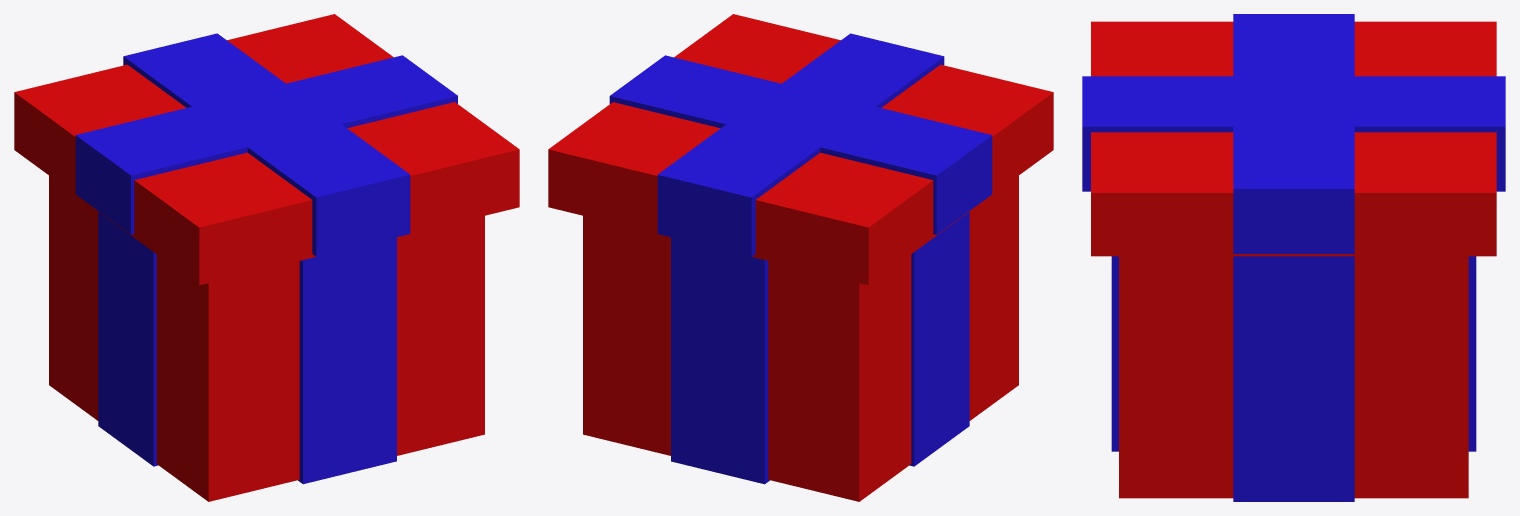
Rendered from Cube Giftbox 1.fbx.
The picture shows the model from 3 angles, left to right: view 1: azimuth 30°, elevation 25°; view 2: azimuth 150°, elevation 25°; view 3: azimuth 270°, elevation 25°; orthographic projection. The views are drawn at different scales.
Visible parts, largest first — view 1: Box, Ribbon; view 2: Box, Ribbon; view 3: Box, Ribbon.
Boxes of the visible parts, x1,y1,x2,y2 form: Box: (14, 14, 519, 501); Ribbon: (75, 33, 457, 484); Box: (548, 14, 1053, 501); Ribbon: (609, 33, 992, 484); Box: (1091, 21, 1496, 498); Ribbon: (1082, 14, 1505, 501).
Size of the model in its own units: 11.84 by 10.26 by 12.1.
